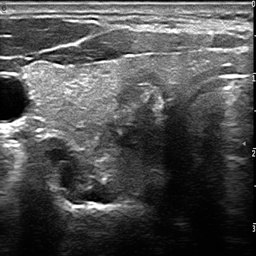mass: (61, 61, 117, 144)
